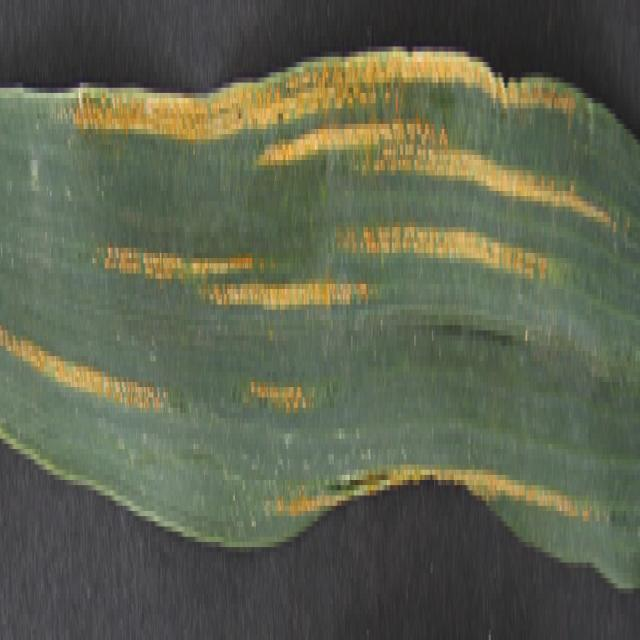leaf rust: (1, 26, 614, 573)
